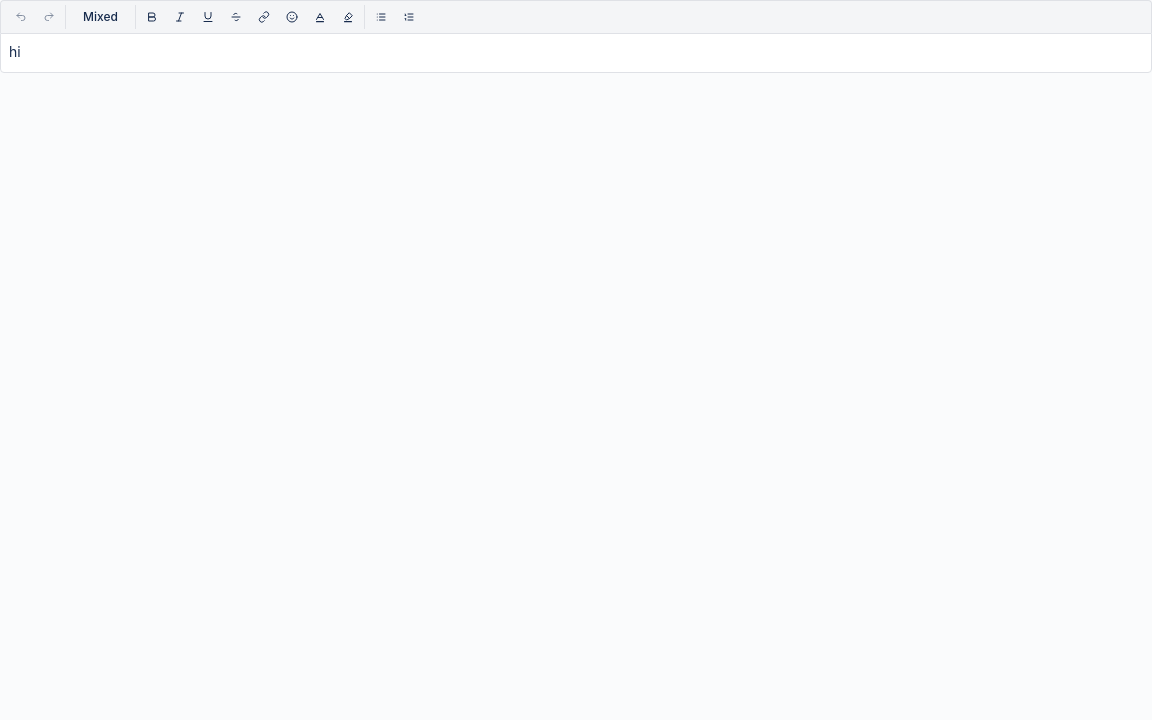
Test: RichTextEditor toolbar › Emoji toolbar button inserts the chosen emoji at the caret
Click the Emoji toolbar button to open the picker.
Click the button named "Emoji" at (292, 17), box x1=280 y1=5 x2=304 y2=29
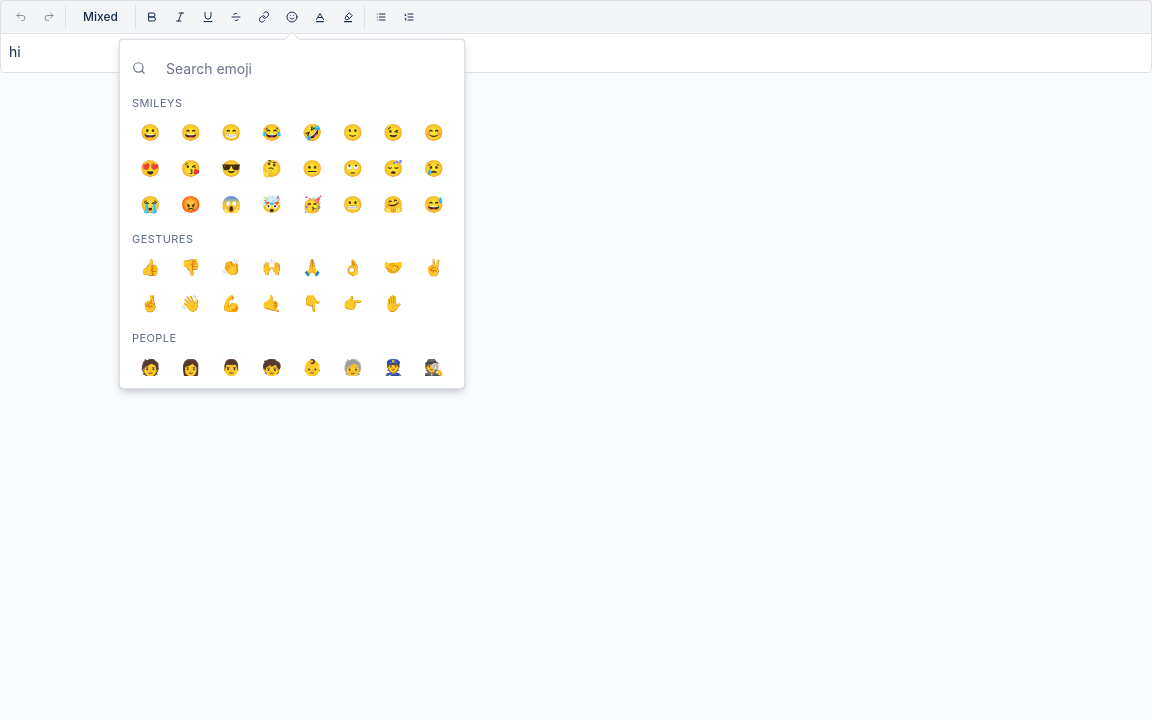
The first emoji in the curated set is 'grinning face' (😀).
Click the option "😀" at (150, 132), box x1=132 y1=116 x2=168 y2=148
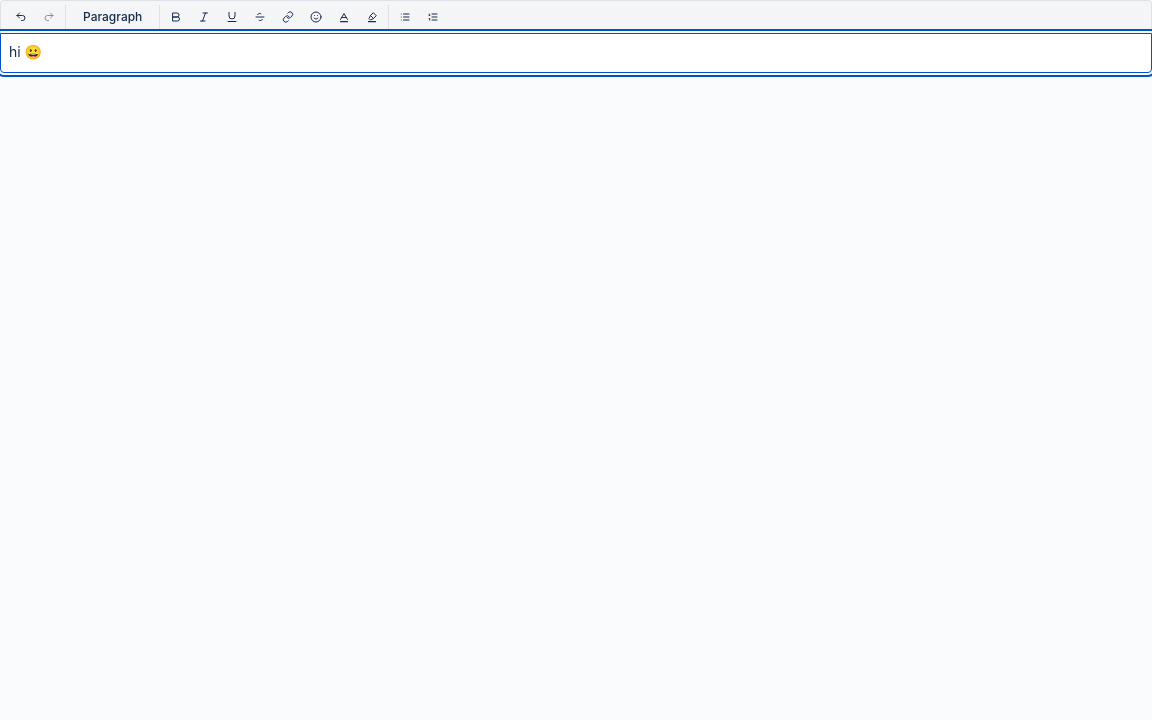
Now the field named "Rich text editor" shows "😀", box x1=0 y1=33 x2=1151 y2=73
